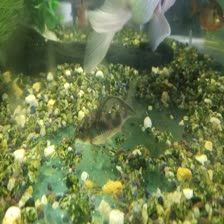Kiros: (60, 94, 154, 145)
